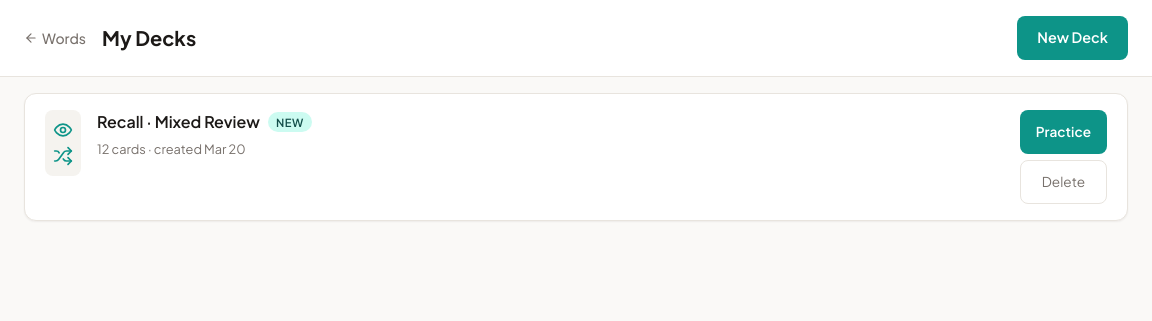
Test: FlashcardDecks — deleting › surfaces a failure to delete and lets it be dismissed
Click the button with aria-label "Delete deck Travel words".
click(1063, 182)  # box [1020, 160, 1107, 204]
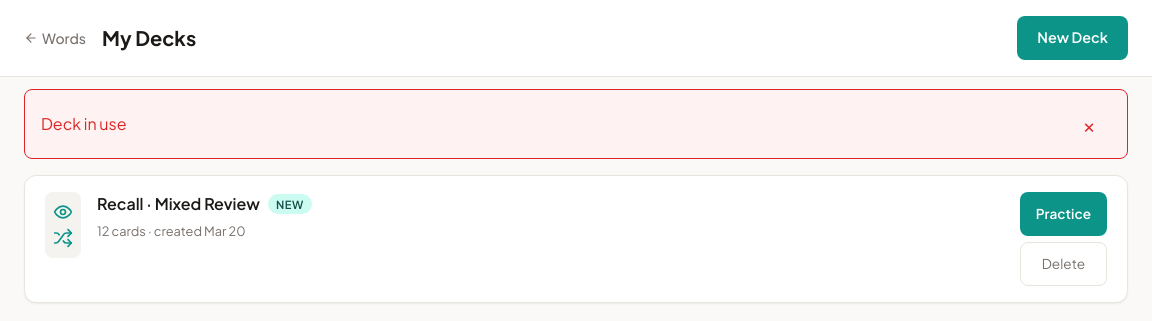
Expected: the text "Deck in use" is shown, [41, 112, 126, 136]
Click the button named "dismiss".
click(1089, 124)  # box [1067, 102, 1111, 146]
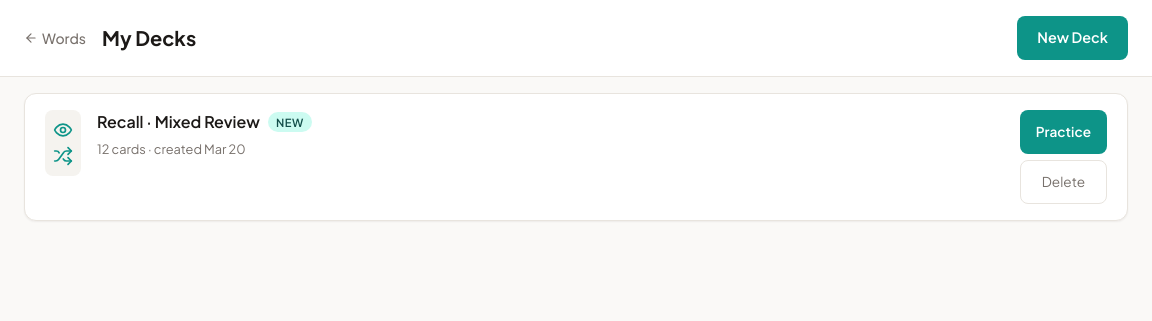
Expected: the text "Deck in use" is gone
